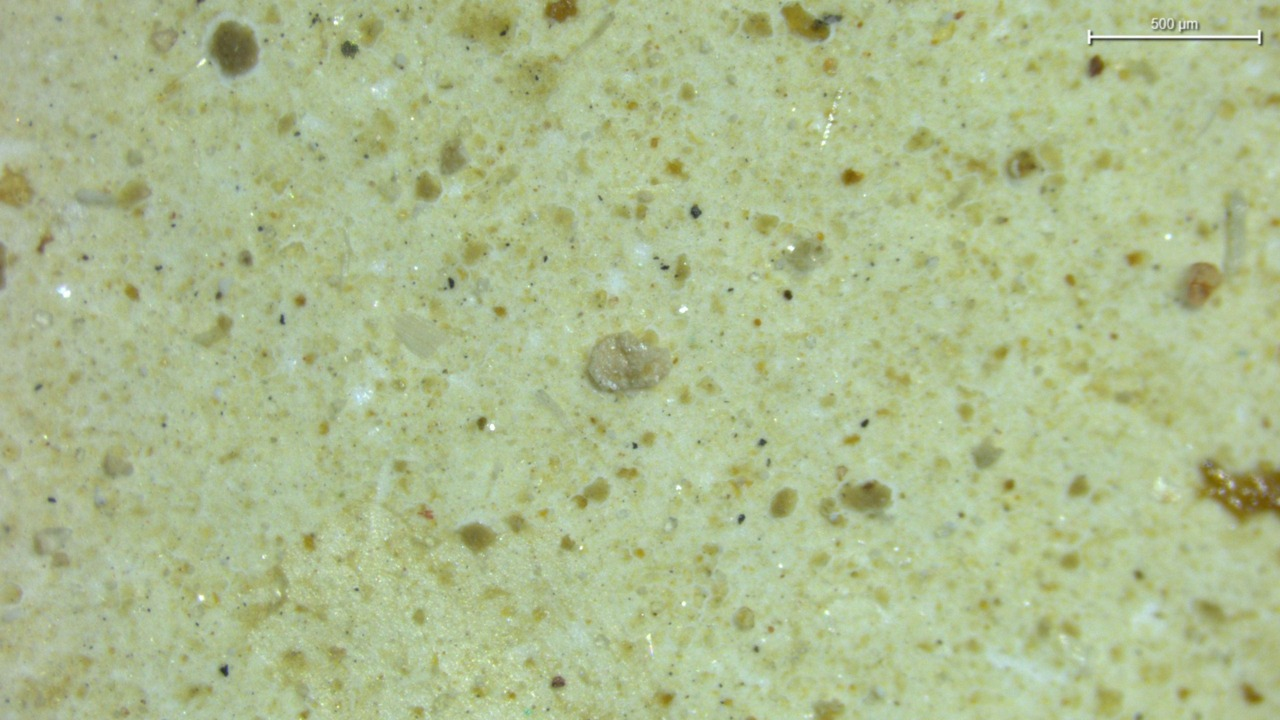microplastic_fragment: (587, 332, 669, 392)
